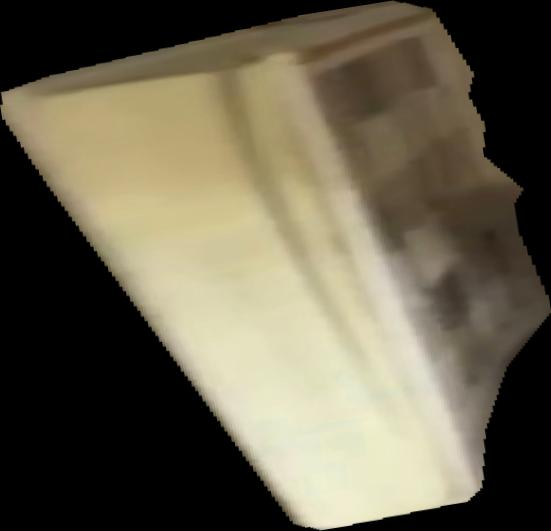backward: (1, 1, 551, 531)
